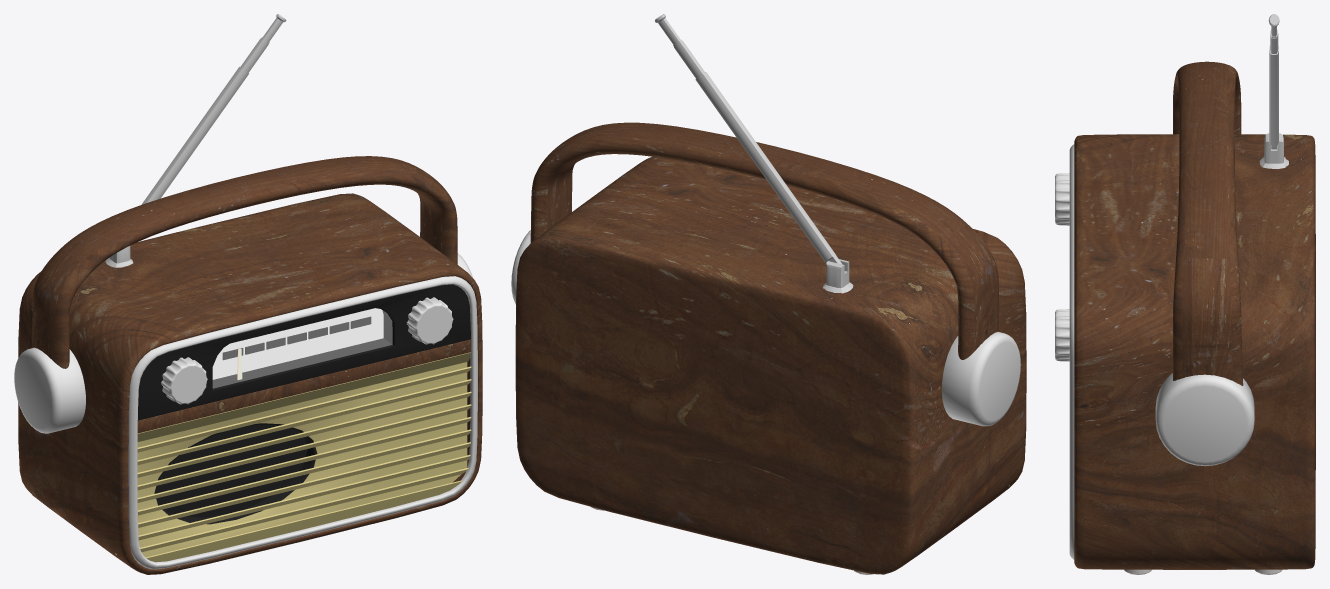
The model's file is retro_style_radio.glb.
3 renders of one model, left to right at view 1: azimuth 30°, elevation 25°; view 2: azimuth 150°, elevation 25°; view 3: azimuth 270°, elevation 25°, orthographic. The views are drawn at different scales.
Parts seen in each view (by area): view 1: Cube_7, Cube.001_0, Plane_5, Cube.002_1, Cylinder_2, Cylinder.003_4, Plane.001_6; view 2: Cube_7, Plane_5, Cylinder_2, Plane.001_6; view 3: Cube_7, Plane_5, Cylinder_2, Plane.001_6, Cylinder.003_4.
Part boxes in pixels (bbox=[...]): Cube_7: bbox=[18, 193, 482, 574]; Cube.001_0: bbox=[115, 308, 471, 562]; Plane_5: bbox=[32, 156, 457, 368]; Cube.002_1: bbox=[137, 284, 470, 420]; Cylinder_2: bbox=[14, 253, 472, 433]; Cylinder.003_4: bbox=[161, 297, 453, 404]; Plane.001_6: bbox=[105, 14, 286, 267]; Cube_7: bbox=[515, 156, 1026, 574]; Plane_5: bbox=[530, 122, 998, 359]; Cylinder_2: bbox=[511, 230, 1020, 426]; Plane.001_6: bbox=[655, 14, 853, 293]; Cube_7: bbox=[1069, 134, 1315, 569]; Plane_5: bbox=[1173, 61, 1243, 385]; Cylinder_2: bbox=[1155, 373, 1254, 466]; Plane.001_6: bbox=[1259, 14, 1288, 168]; Cylinder.003_4: bbox=[1055, 173, 1069, 361].
Bounding box in the file's own units: 0.49 × 0.5085 × 0.2298.
Materials: 9 (1 with a texture image).
